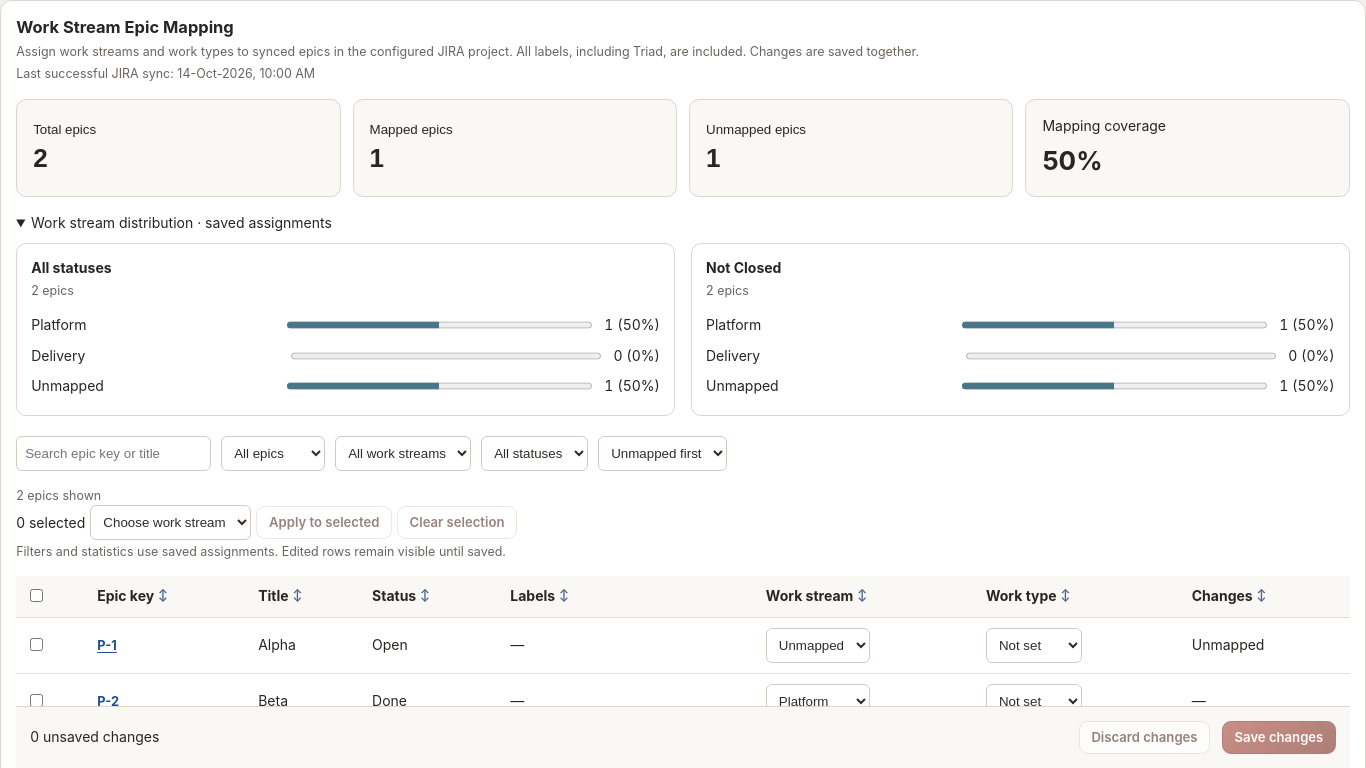
Test: Epic mapping › combines work type and stream drafts and reverts each field independently
Expected: the dropdown named "Work stream for P-1" is shown, x1=766 y1=628 x2=870 y2=663
Select "Feature" in the dropdown named "Work type for P-1" at (1034, 645), box x1=986 y1=628 x2=1082 y2=663
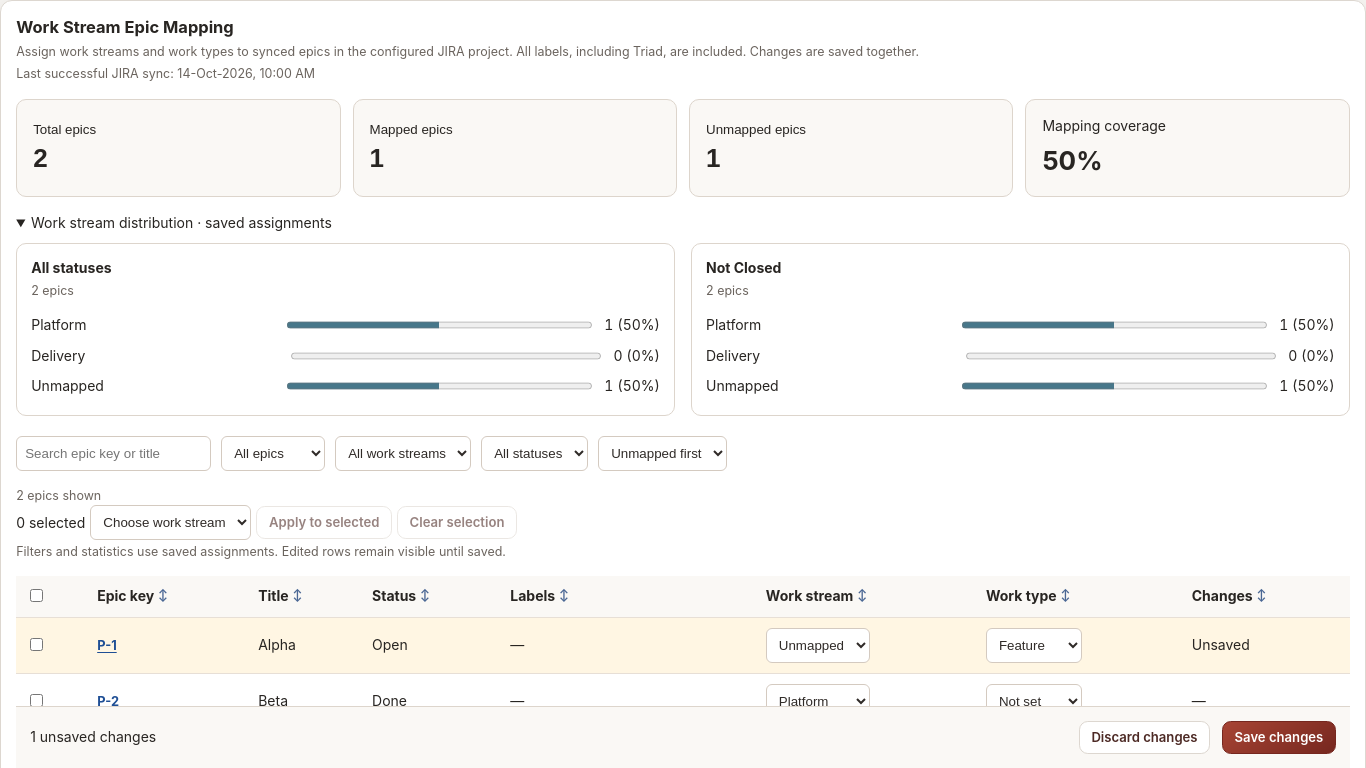
Select "Delivery" in the dropdown named "Work stream for P-1" at (818, 645), box x1=766 y1=628 x2=870 y2=663
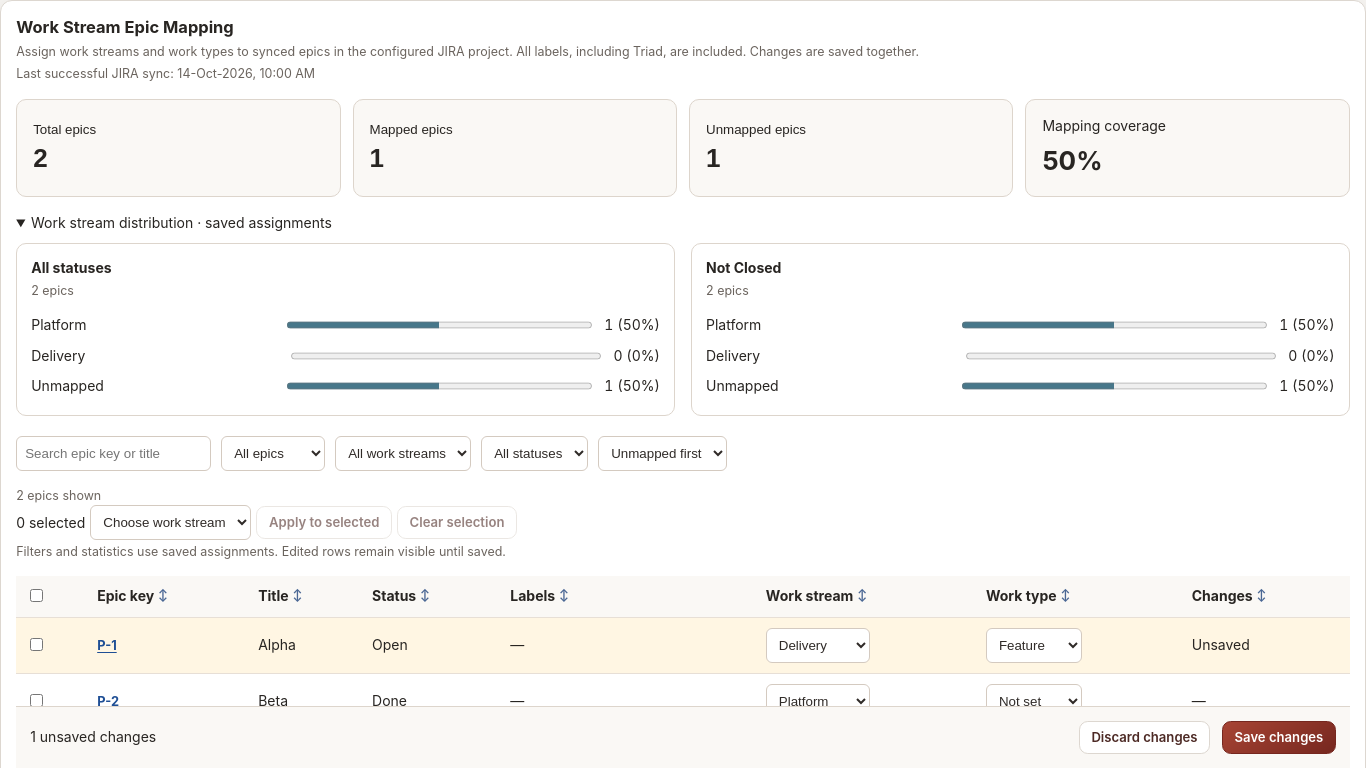
Expected: the text "1 unsaved changes" is shown, x1=30 y1=727 x2=156 y2=748
Select "Not set" in the dropdown named "Work type for P-1" at (1034, 645), box x1=986 y1=628 x2=1082 y2=663
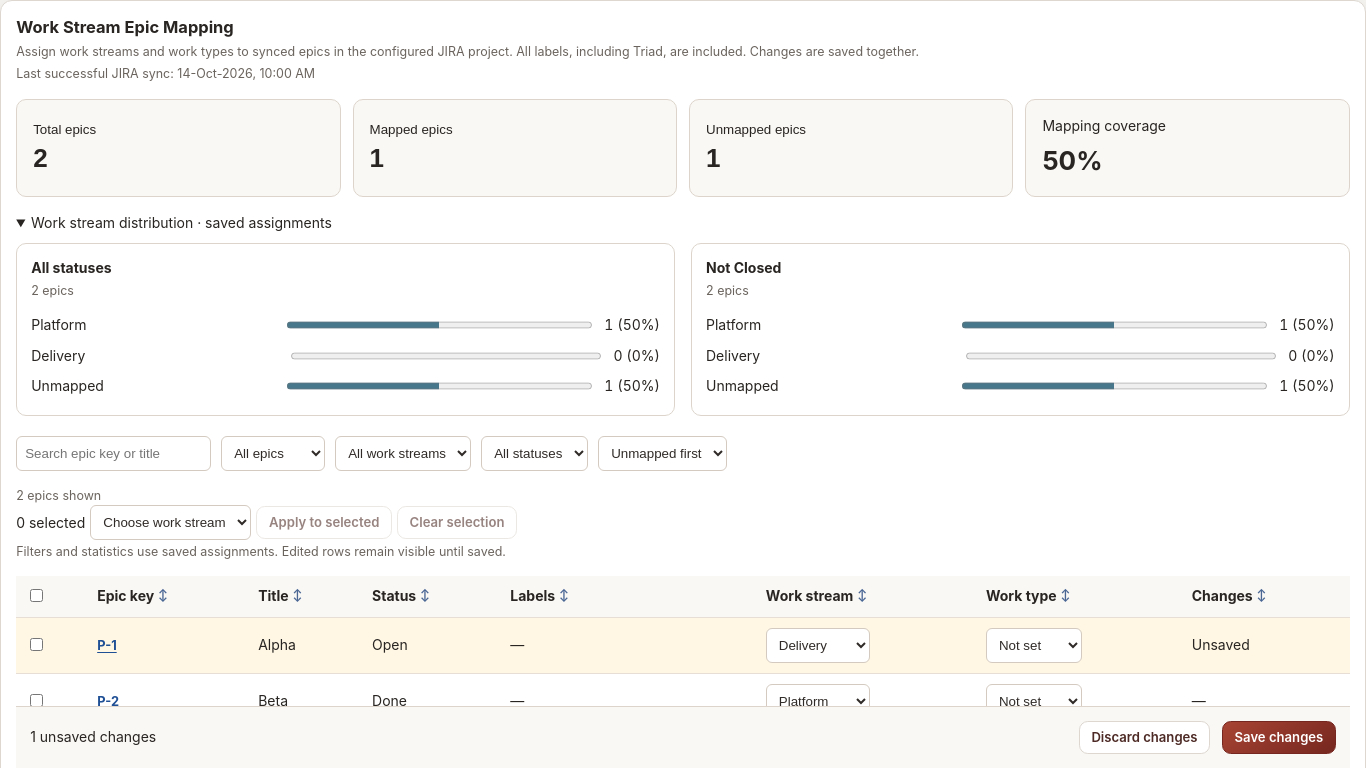
Expected: the text "1 unsaved changes" is shown, x1=30 y1=727 x2=156 y2=748
Click the button "Discard changes" at (1144, 737), box x1=1079 y1=721 x2=1210 y2=754
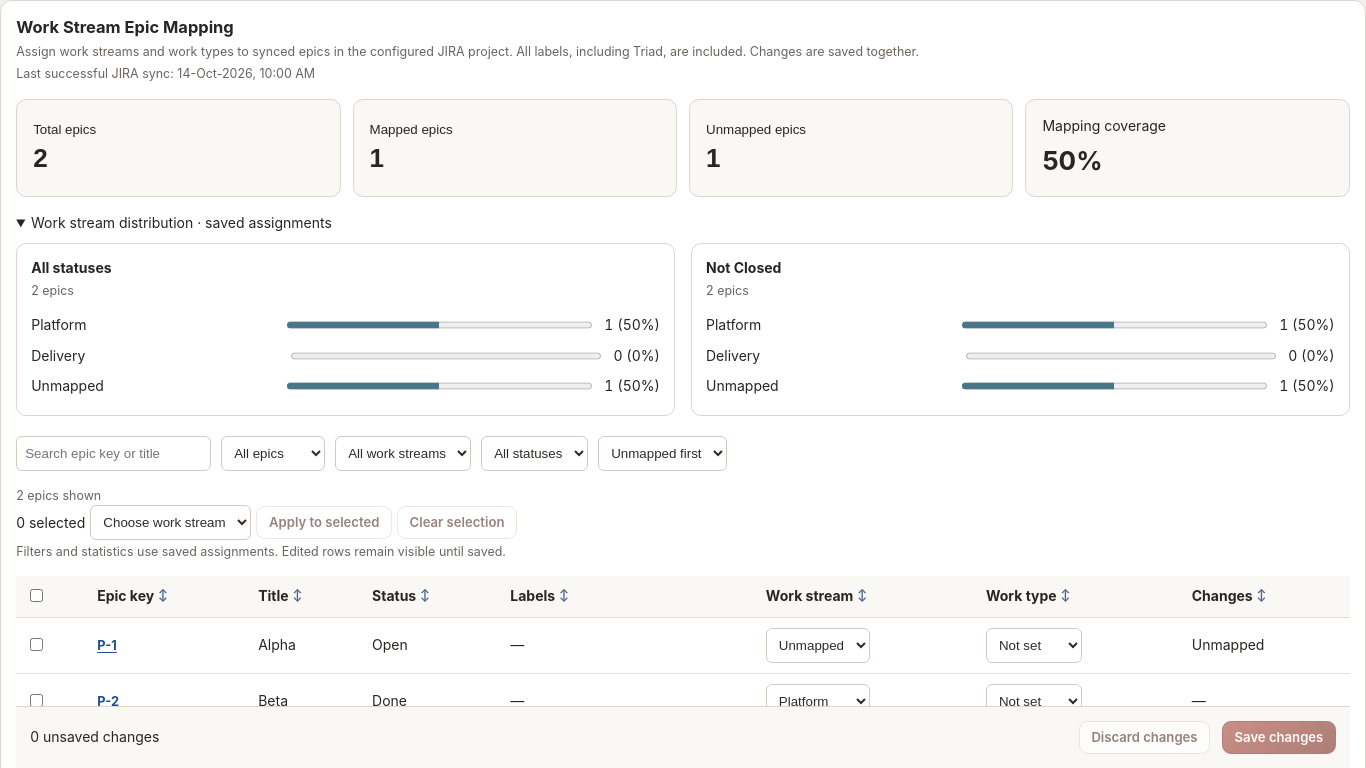
Select "Delivery" in the dropdown named "Work stream for P-1" at (818, 645), box x1=766 y1=628 x2=870 y2=663
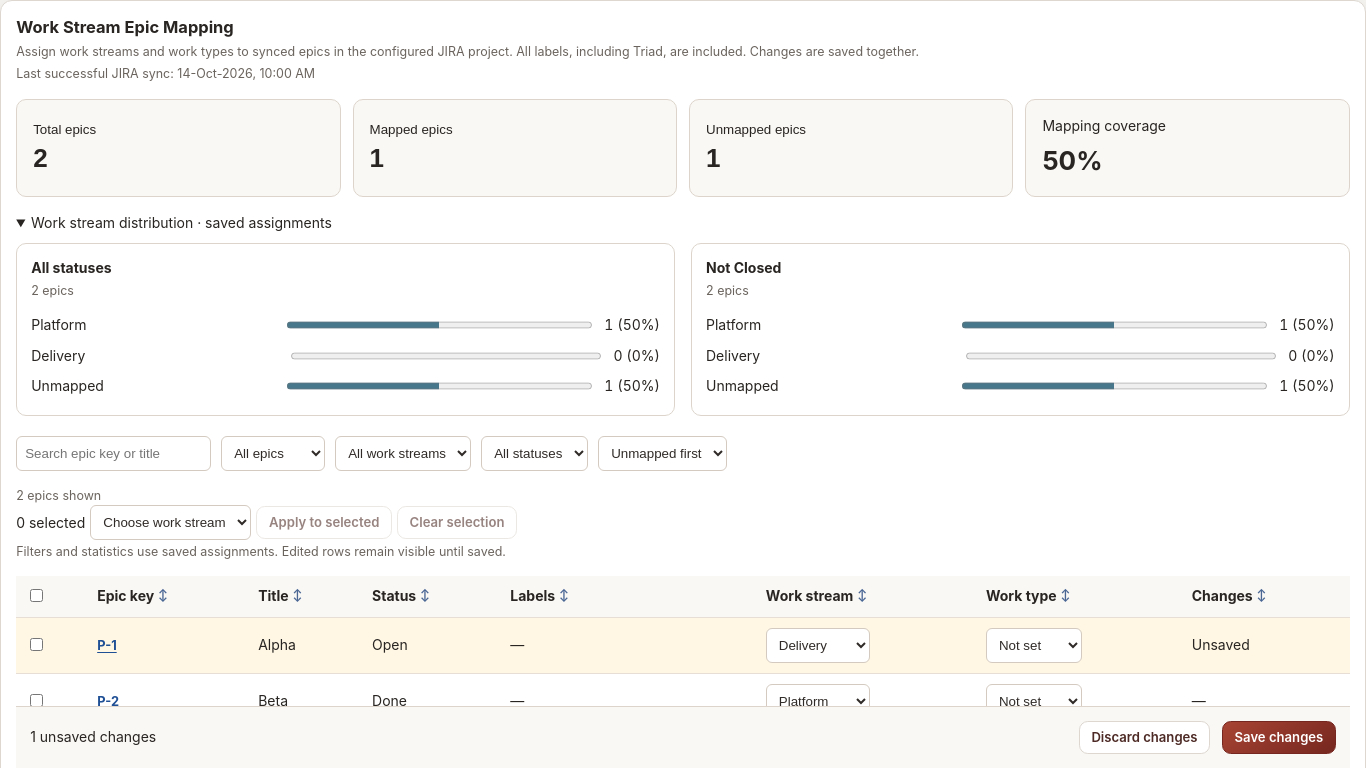
Select "Feature" in the dropdown named "Work type for P-1" at (1034, 645), box x1=986 y1=628 x2=1082 y2=663
Click the button "Save changes" at (1279, 737), box x1=1222 y1=721 x2=1336 y2=754
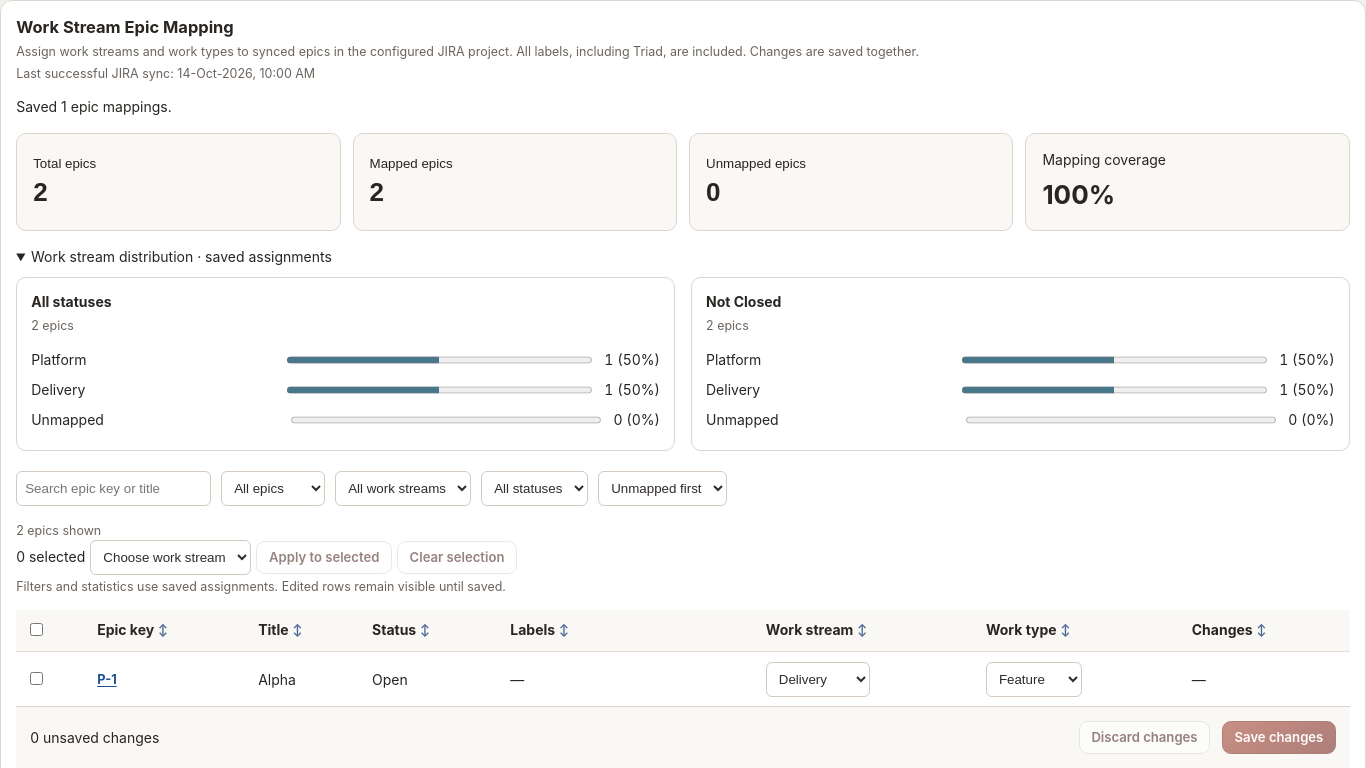
Expected: the text "Saved 1 epic mappings." is shown, x1=16 y1=98 x2=172 y2=115
